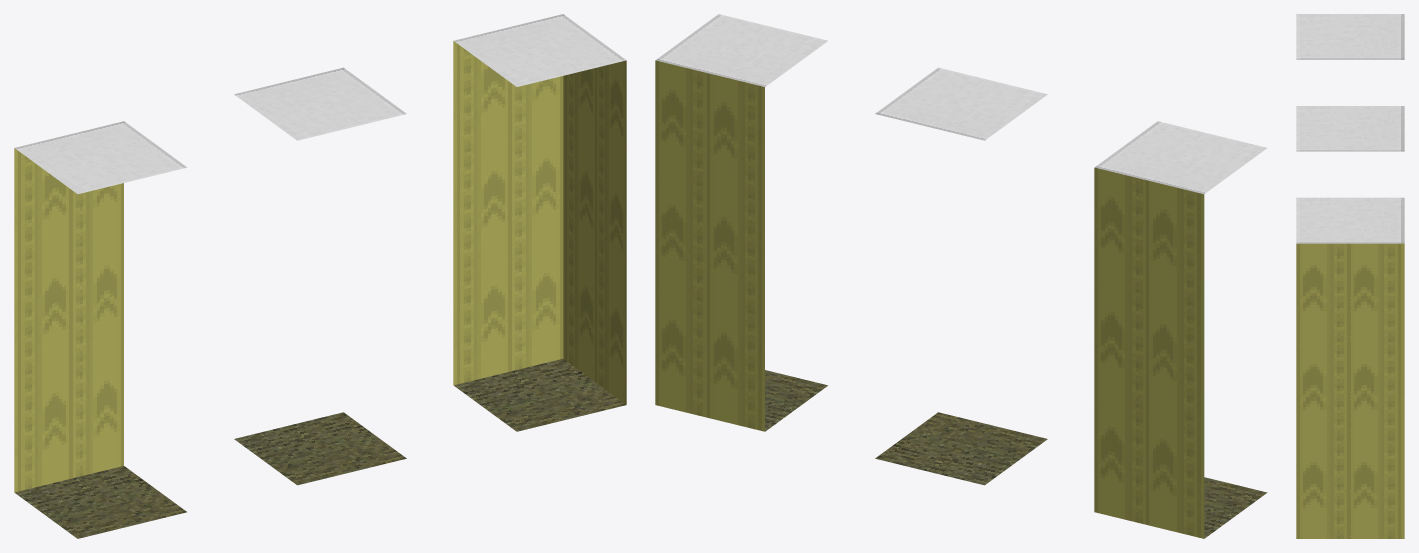
Rendered from backrooms_tileset.glb.
The picture shows the model from 3 angles, left to right: view 1: azimuth 30°, elevation 25°; view 2: azimuth 150°, elevation 25°; view 3: azimuth 270°, elevation 25°; orthographic projection. The views are drawn at different scales.
Parts seen in each view (by area): view 1: backroom_corner-col, backroom_wall-col, backroom_floor-col; view 2: backroom_wall-col, backroom_corner-col, backroom_floor-col; view 3: backroom_corner-col, backroom_wall-col, backroom_floor-col.
Boxes of the visible parts, x1,y1,x2,y2 form: backroom_corner-col: (453, 14, 626, 431); backroom_wall-col: (14, 121, 186, 538); backroom_floor-col: (234, 67, 406, 485); backroom_wall-col: (1094, 121, 1267, 538); backroom_corner-col: (655, 14, 827, 431); backroom_floor-col: (875, 67, 1047, 485); backroom_corner-col: (1296, 197, 1404, 538); backroom_wall-col: (1296, 14, 1404, 59); backroom_floor-col: (1296, 106, 1404, 151).
Size of the model in its own units: 5 by 3 by 1.
Materials: 1 (1 with a texture image).
